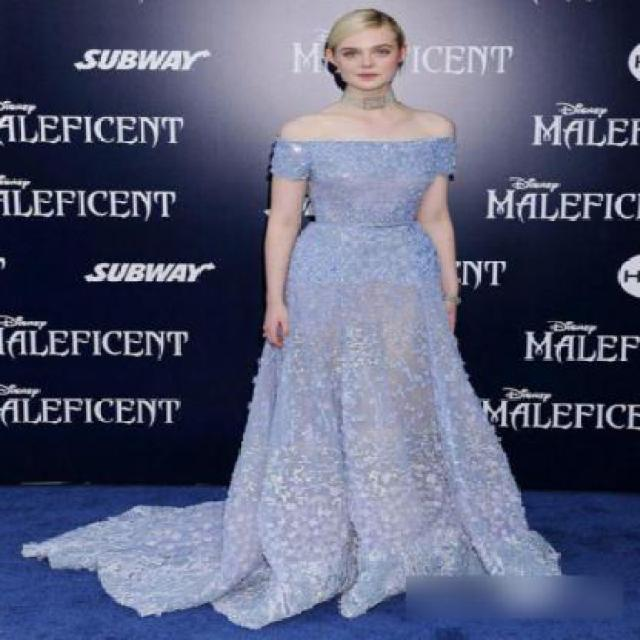Person: (162, 4, 548, 639)
